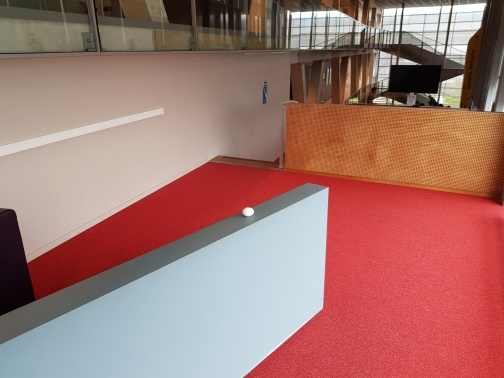egg: (240, 206, 256, 217)
